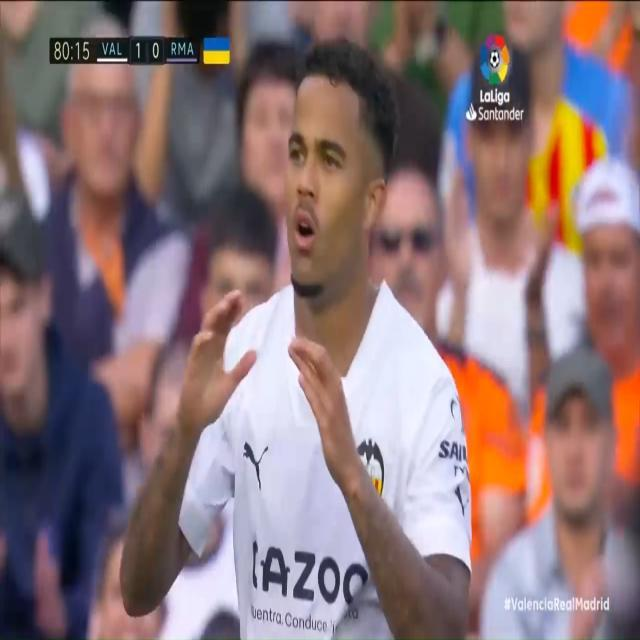player: (131, 25, 495, 636)
